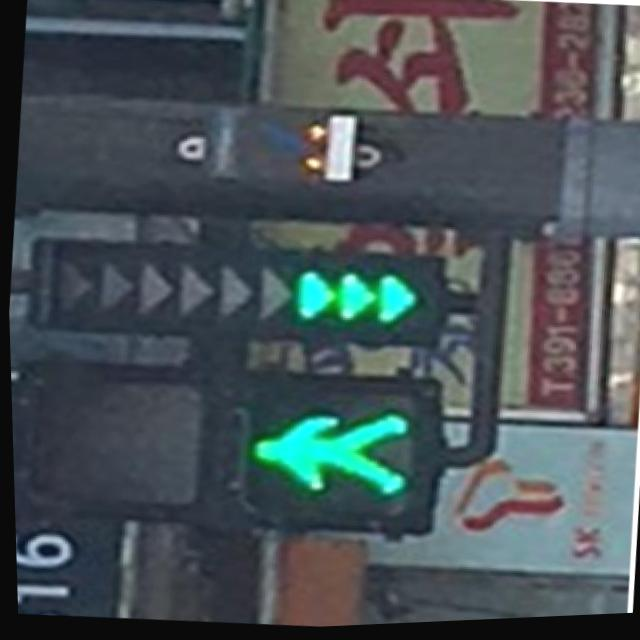green_light: (245, 393, 410, 522)
